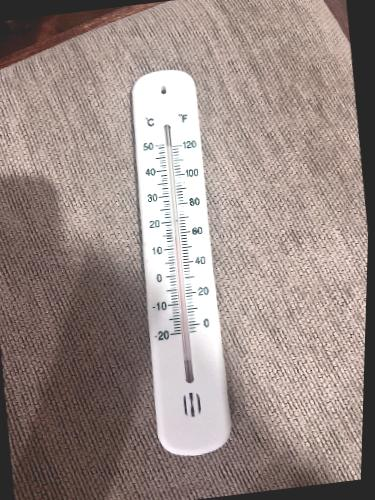thermo: (131, 67, 232, 457)
